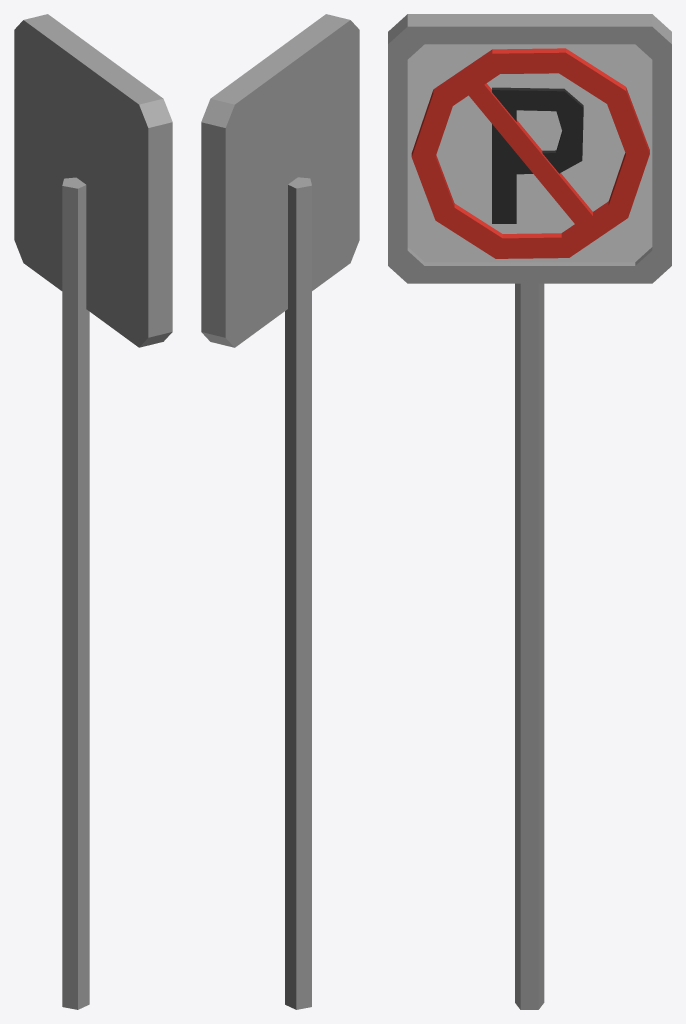
The model's file is schild_parkverbot.glb.
The picture shows the model from 3 angles, left to right: view 1: azimuth 30°, elevation 25°; view 2: azimuth 150°, elevation 25°; view 3: azimuth 270°, elevation 25°; orthographic projection. The views are drawn at different scales.
Parts seen in each view (by area): view 1: Parking; view 2: Parking; view 3: Parking.
Boxes of the visible parts, <box> form: Parking: <box>14,14,172,1009</box>; Parking: <box>201,14,359,1009</box>; Parking: <box>388,14,671,1009</box>.
Size of the model in its own units: 0.1098 by 2.2 by 0.5691.
